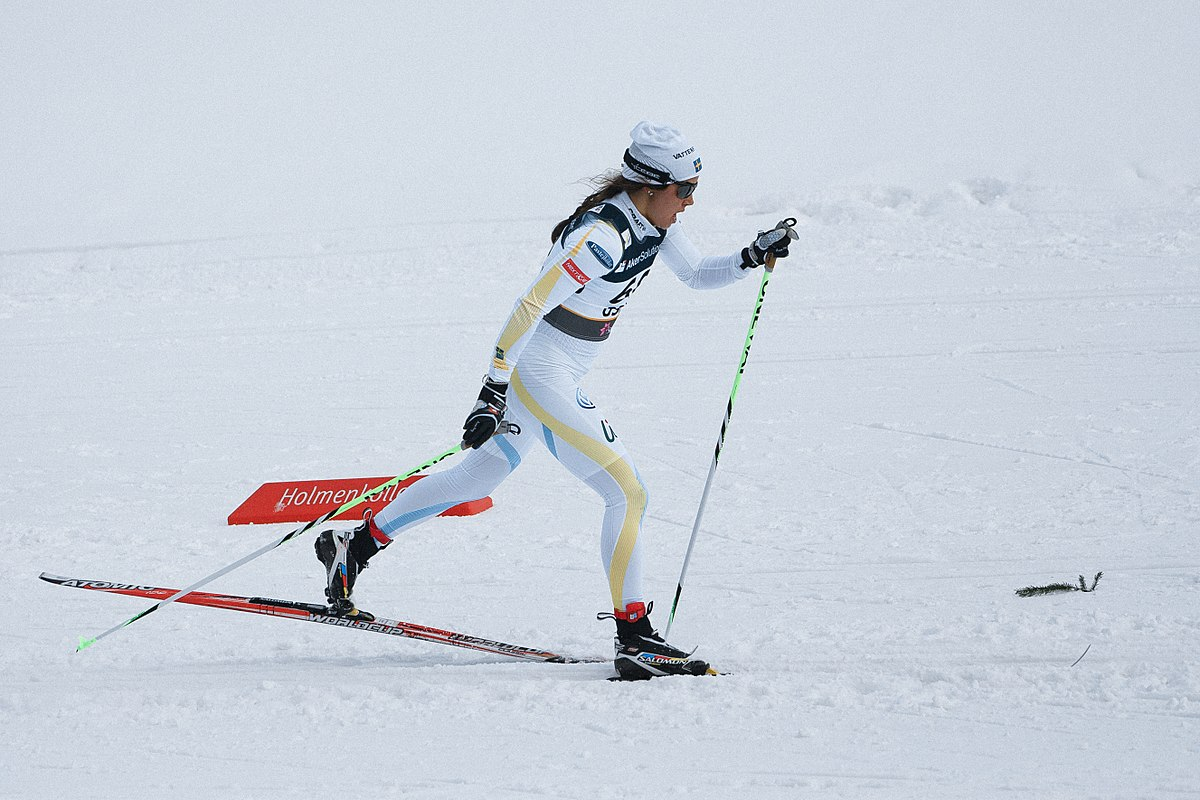skier: (32, 54, 838, 697)
